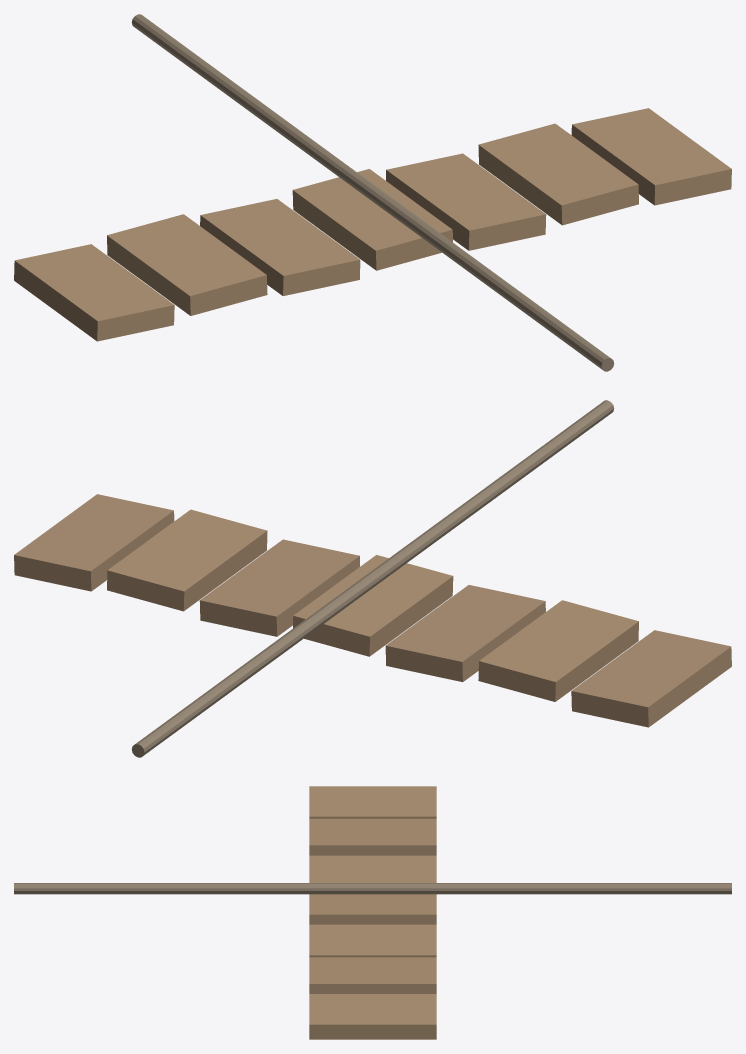
File: branch_bridge.glb
The picture shows the model from 3 angles, top to bottom: view 1: azimuth 30°, elevation 25°; view 2: azimuth 150°, elevation 25°; view 3: azimuth 270°, elevation 25°; orthographic projection. The views are drawn at different scales.
Parts seen in each view (by area): view 1: world; view 2: world; view 3: world.
Part boxes in pixels (x1,y1,x2,y2): world: (14,14,731,371); world: (14,400,731,757); world: (14,786,731,1039).
Bounding box in the file's own units: 3.96 × 0.2972 × 5.08.
